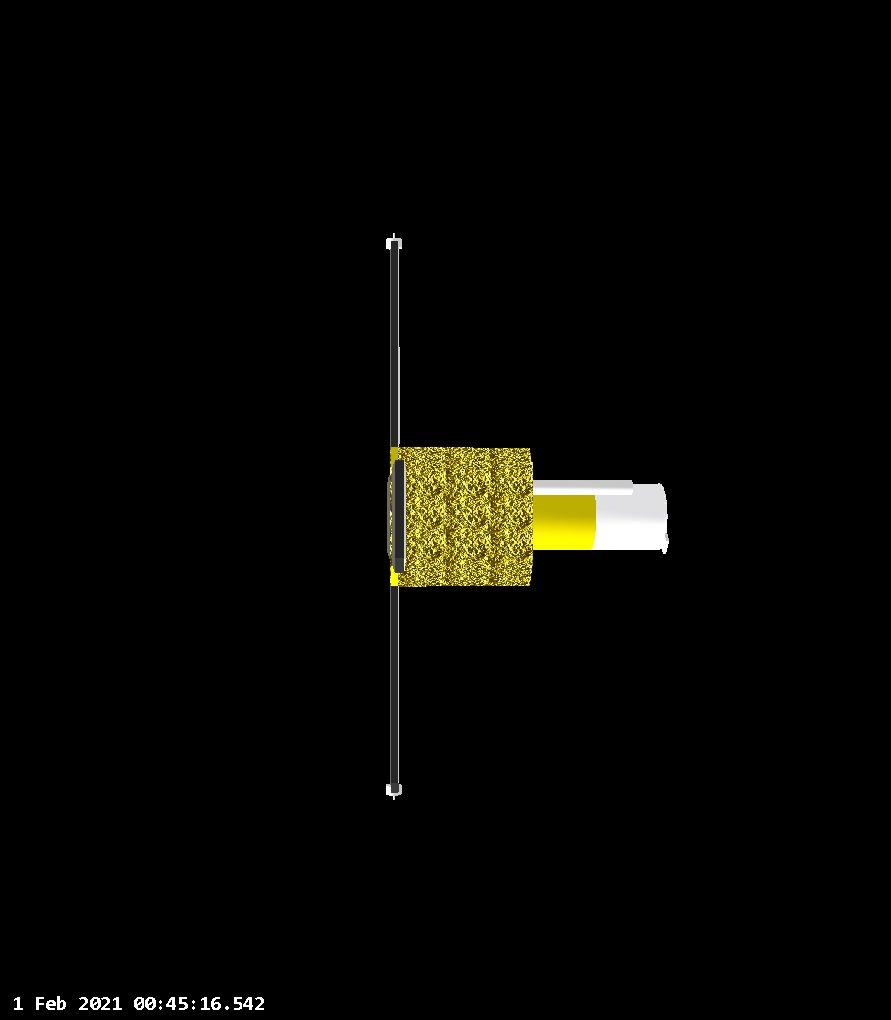antenna: (384, 229, 406, 254), (384, 778, 405, 802)
body: (384, 442, 535, 589)
solar: (387, 238, 403, 448), (389, 580, 402, 790), (392, 453, 407, 577)
